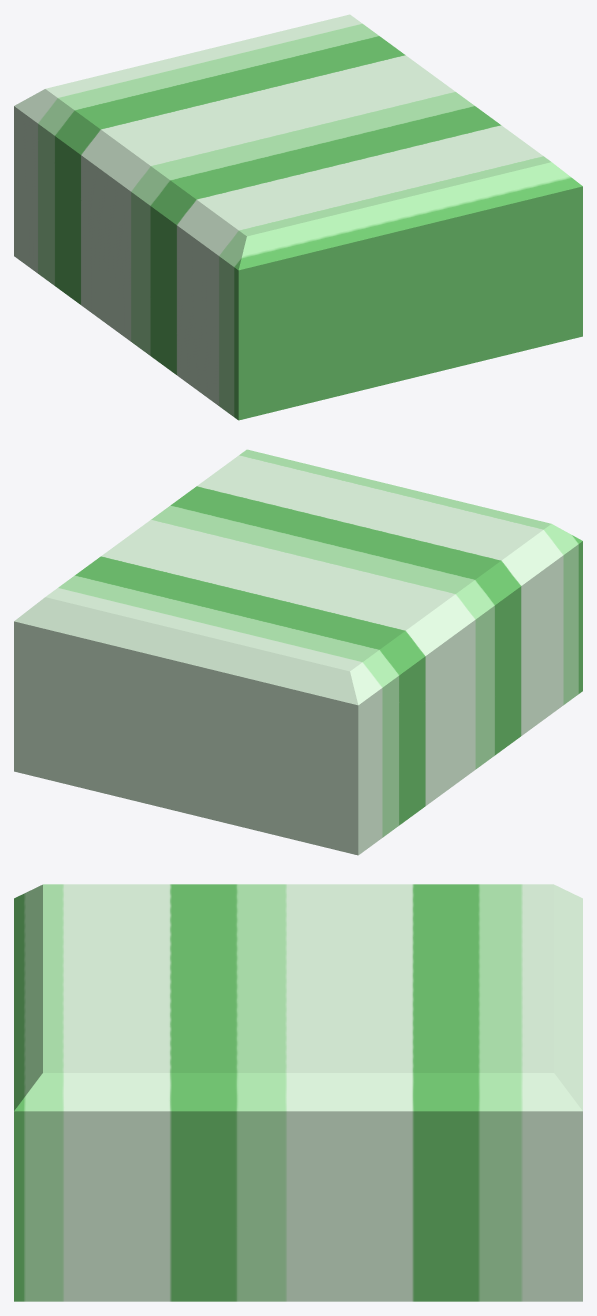
The model's file is Socks_2.FBX.
3 renders of one model, top to bottom at view 1: azimuth 30°, elevation 25°; view 2: azimuth 150°, elevation 25°; view 3: azimuth 270°, elevation 25°, orthographic. The views are drawn at different scales.
Visible parts, largest first — view 1: Line001; view 2: Line001; view 3: Line001.
Boxes of the visible parts, left/top/right/bottom form: Line001: left=14, top=14, right=582, bottom=420; Line001: left=14, top=449, right=582, bottom=855; Line001: left=14, top=884, right=582, bottom=1301.
Size of the model in its own units: 50.85 by 24.11 by 57.44.
